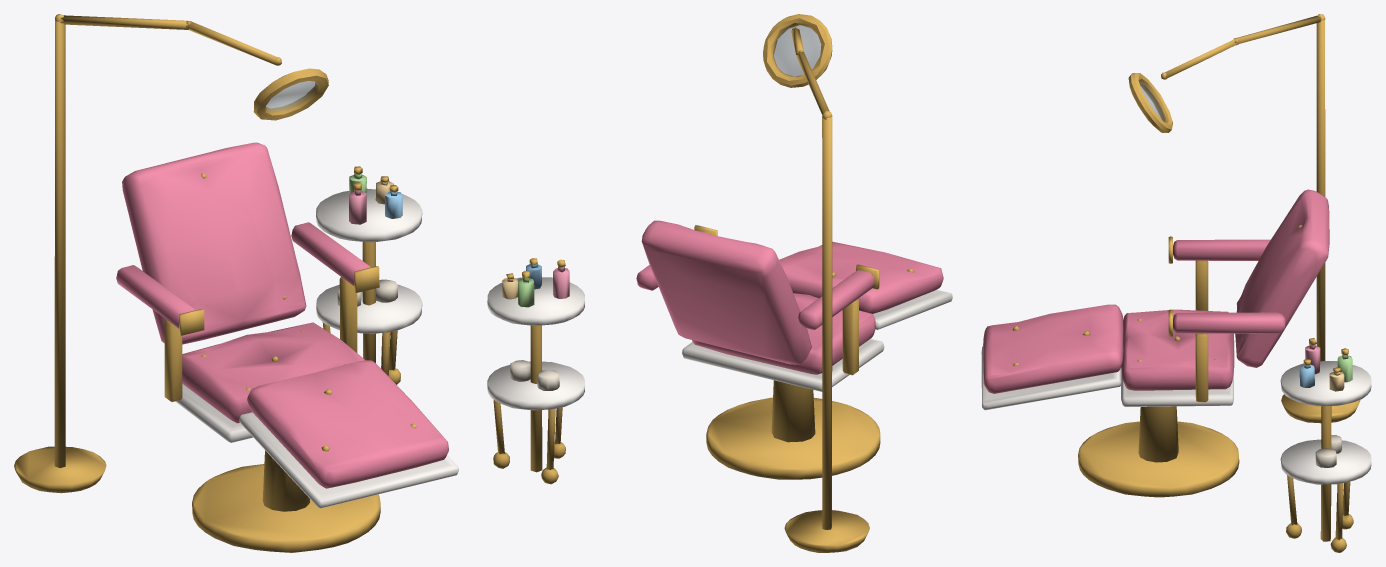
The model's file is facial-chair-rose.glb.
3 views of the same model, side by side, from view 1: azimuth 30°, elevation 25°; view 2: azimuth 150°, elevation 25°; view 3: azimuth 270°, elevation 25° (orthographic). The views are drawn at different scales.
Visible parts, largest first — view 1: facial-chair-rose; view 2: facial-chair-rose; view 3: facial-chair-rose.
Boxes of the visible parts, x1,y1,x2,y2 form: facial-chair-rose: (14, 14, 458, 552); facial-chair-rose: (487, 14, 952, 552); facial-chair-rose: (981, 14, 1371, 552).
Size of the model in its own units: 1.46 by 1.65 by 1.44.
